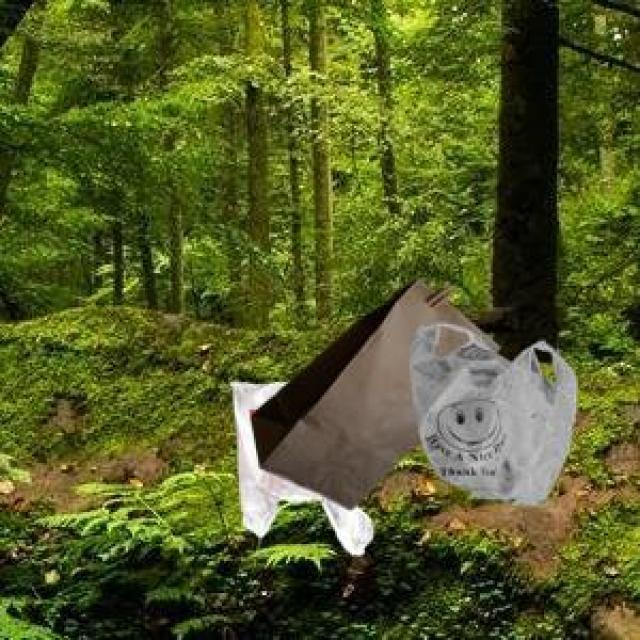paper: (248, 275, 495, 506)
